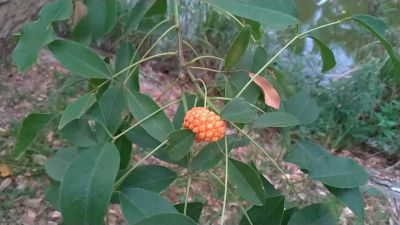eggs: (179, 102, 229, 146)
